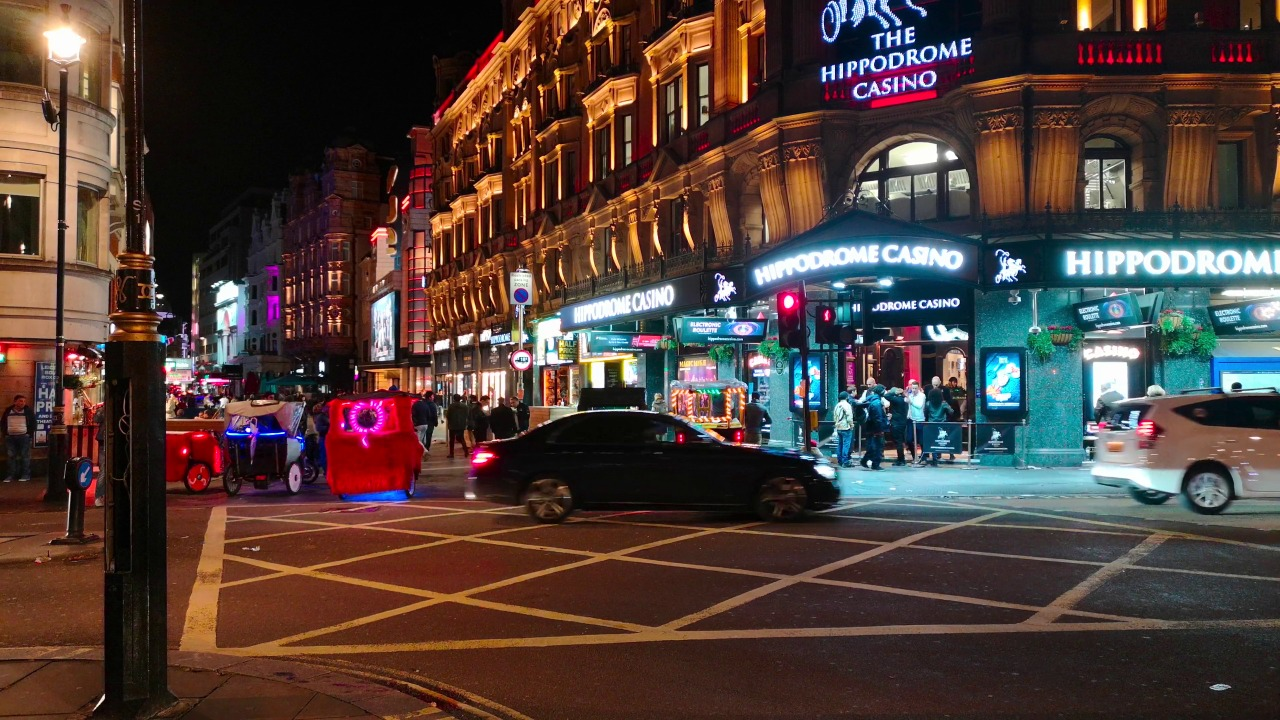car: (462, 408, 845, 525), (1097, 388, 1280, 515), (325, 387, 428, 503), (223, 394, 318, 502), (668, 379, 748, 442), (159, 428, 230, 493), (579, 387, 646, 410)
person: (1, 392, 40, 482), (886, 385, 910, 468), (90, 399, 107, 509), (867, 384, 885, 476), (907, 382, 926, 465), (835, 391, 854, 469), (1094, 377, 1126, 422), (447, 394, 469, 458), (745, 390, 768, 442), (413, 393, 431, 459), (301, 410, 318, 475), (491, 396, 517, 438), (507, 397, 532, 435), (473, 396, 493, 443), (943, 375, 969, 411), (425, 389, 438, 457), (927, 388, 953, 421), (847, 384, 865, 431), (317, 401, 327, 480), (466, 396, 479, 454), (650, 391, 666, 415), (928, 376, 946, 395), (1141, 384, 1165, 397), (861, 374, 876, 394), (1227, 381, 1247, 396), (905, 378, 918, 388)
